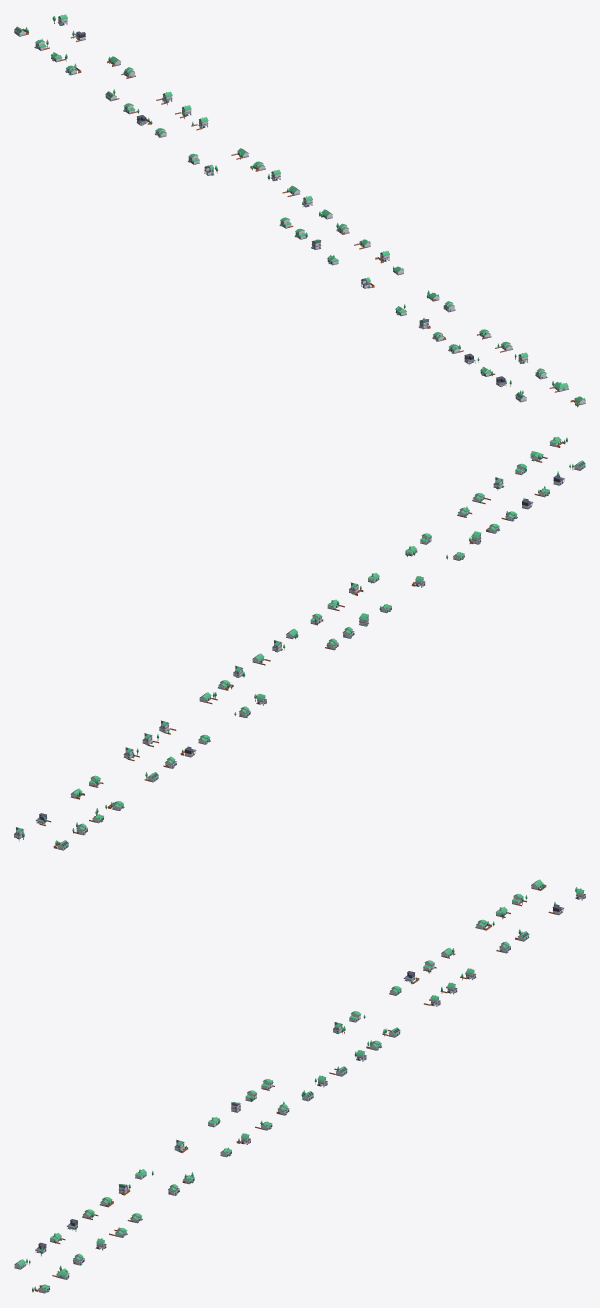
Rendered from nj_street.glb.
3 views of the same model, one above another, from view 1: azimuth 30°, elevation 25°; view 2: azimuth 150°, elevation 25°; view 3: azimuth 330°, elevation 25° (orthographic). The views are drawn at different scales.
Bounding box in the file's own units: 54.2 × 8.62 × 937.
1 material, 1 textured.
